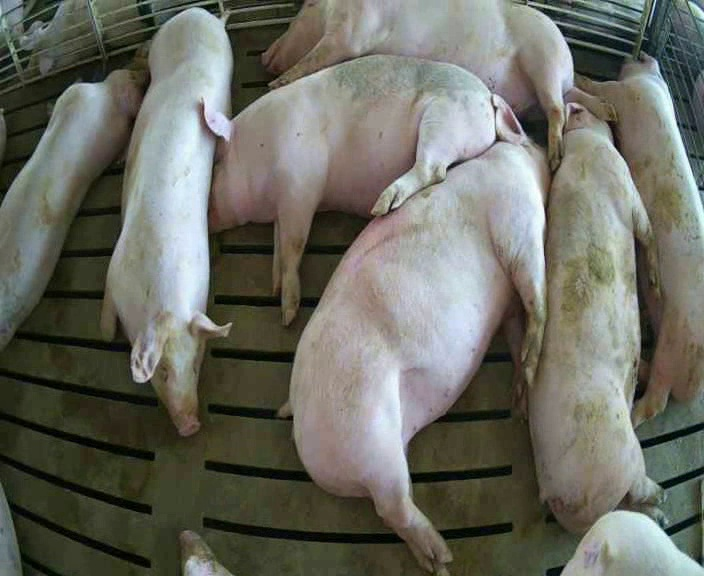pig: (291, 93, 551, 573), (201, 55, 494, 323), (528, 104, 666, 533), (262, 2, 614, 168), (102, 8, 232, 435), (577, 55, 703, 422), (0, 70, 149, 349)
